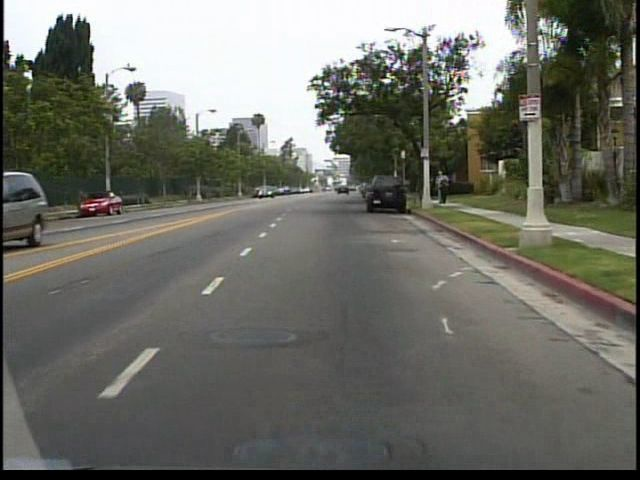person: (435, 169, 450, 208), (439, 172, 452, 206)
